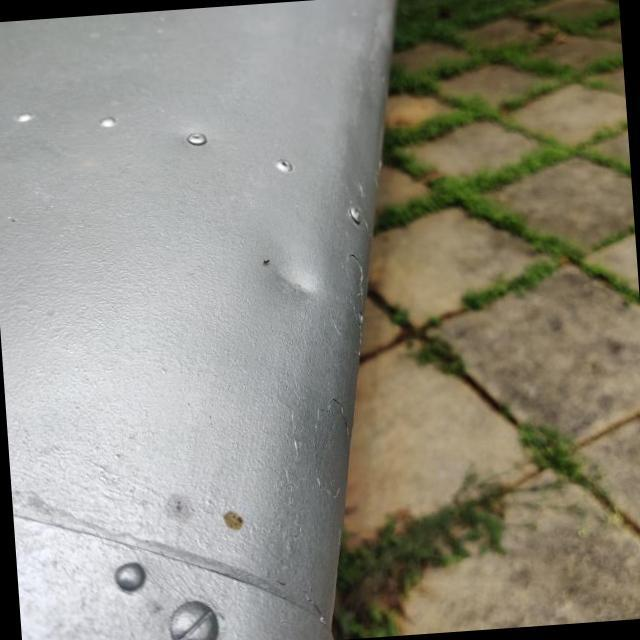Dent: (236, 227, 346, 332)
